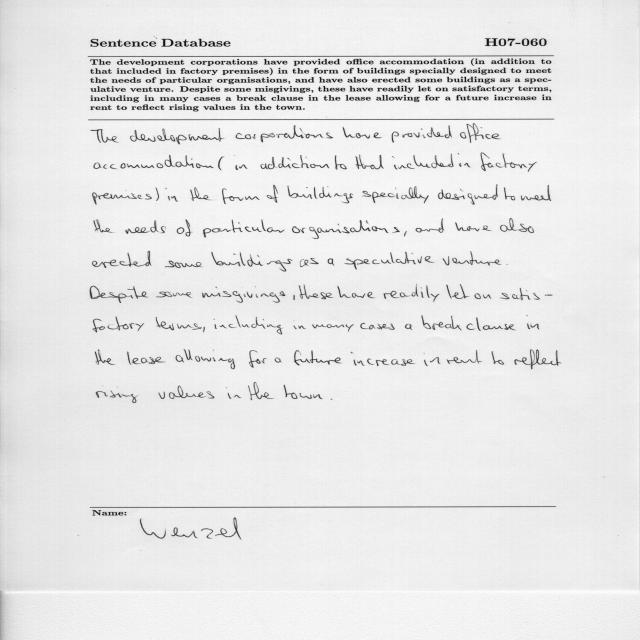word: (292, 220, 400, 239), (94, 155, 213, 169), (236, 126, 333, 143), (212, 252, 293, 271), (345, 252, 435, 269), (130, 128, 224, 144), (203, 220, 285, 238), (202, 286, 285, 303), (362, 186, 429, 204), (438, 185, 498, 205), (220, 316, 283, 335), (176, 350, 235, 370), (288, 186, 354, 203), (480, 153, 537, 172), (392, 126, 452, 143), (384, 284, 440, 302), (93, 251, 152, 268), (90, 286, 148, 303), (261, 155, 330, 169), (515, 350, 562, 370), (392, 154, 454, 169), (351, 352, 415, 366), (93, 190, 152, 205), (443, 251, 501, 266), (460, 123, 501, 143), (93, 317, 144, 332), (156, 317, 205, 332), (159, 386, 215, 399), (294, 351, 342, 366), (466, 317, 516, 331), (500, 288, 553, 300), (421, 316, 462, 331), (222, 188, 259, 204), (125, 220, 166, 234), (284, 385, 323, 399), (500, 218, 534, 233), (299, 284, 333, 299), (127, 352, 165, 365), (96, 391, 137, 403), (447, 350, 482, 364), (521, 185, 551, 201), (343, 127, 382, 139), (337, 286, 375, 298), (248, 382, 273, 400), (416, 218, 444, 233), (355, 155, 384, 169), (91, 129, 119, 143), (447, 284, 470, 299), (312, 324, 354, 332), (455, 223, 491, 232), (249, 350, 267, 368), (96, 349, 116, 365), (190, 187, 210, 201), (165, 261, 202, 268), (177, 220, 192, 237), (94, 219, 112, 233), (360, 323, 395, 330), (424, 354, 441, 367), (157, 292, 193, 298), (234, 155, 248, 170), (267, 185, 278, 203), (166, 188, 179, 202), (335, 155, 347, 170), (527, 315, 539, 330), (226, 387, 241, 399), (300, 258, 319, 267), (458, 153, 470, 167), (492, 351, 504, 365), (504, 188, 515, 201), (293, 321, 306, 329), (475, 293, 492, 299), (219, 157, 225, 171), (155, 187, 159, 201), (328, 259, 334, 266), (405, 324, 412, 330), (275, 358, 282, 363), (214, 319, 217, 329), (404, 231, 407, 236), (293, 295, 295, 300), (506, 264, 508, 265), (331, 399, 333, 400)
